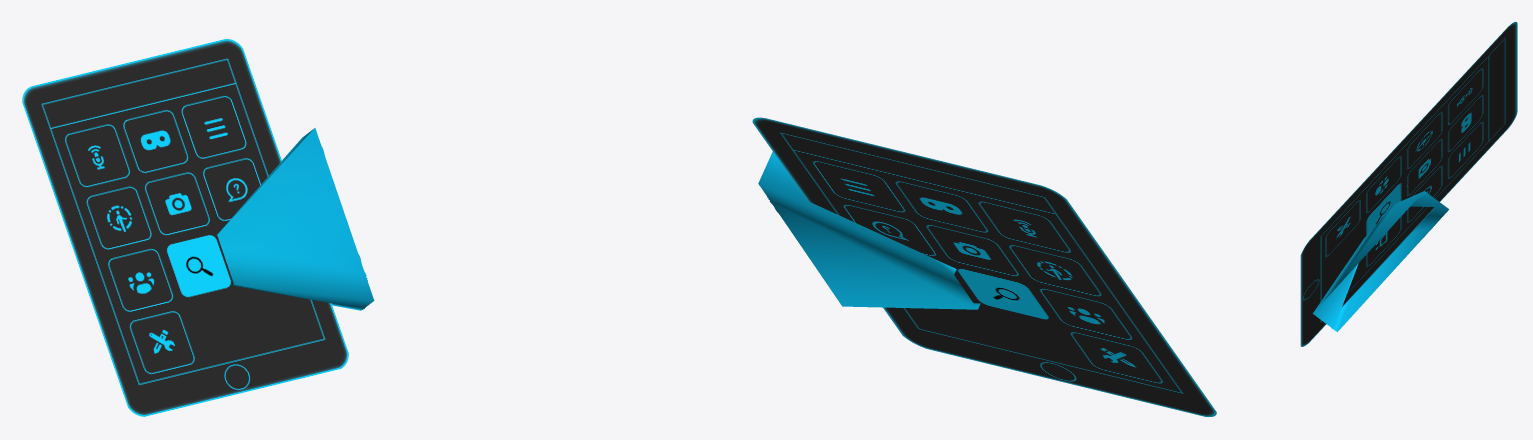
The model's file is FTUE-Tablet-Go-To.fbx.
The picture shows the model from 3 angles, left to right: view 1: azimuth 30°, elevation 25°; view 2: azimuth 150°, elevation 25°; view 3: azimuth 270°, elevation 25°; orthographic projection. The views are drawn at different scales.
Visible parts, largest first — view 1: Cube.003, Cube.000; view 2: Cube.003, Cube.000; view 3: Cube.003, Cube.000.
Boxes of the visible parts, x1,y1,x2,y2 form: Cube.003: (22,39,348,416); Cube.000: (216,128,374,310); Cube.003: (752,117,1216,416); Cube.000: (758,151,980,309); Cube.003: (1300,22,1517,346); Cube.000: (1312,191,1448,331).
Size of the model in its own units: 46.29 by 31.32 by 29.74.
1 material, 1 textured.
